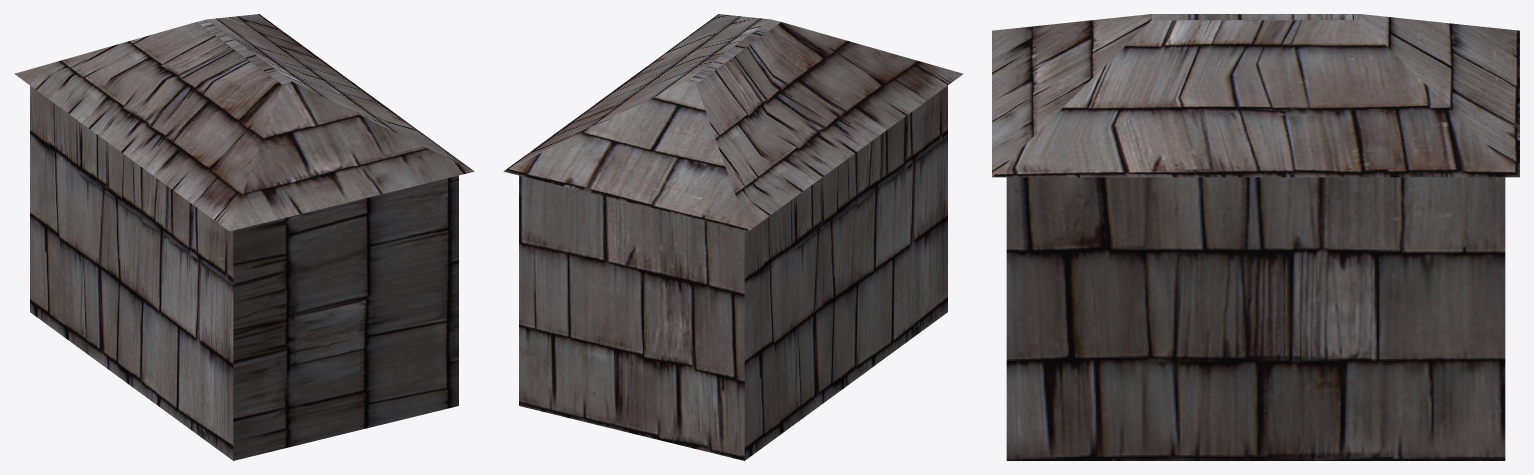
The model's file is MediumHouse2.obj.
3 views of the same model, side by side, from view 1: azimuth 30°, elevation 25°; view 2: azimuth 150°, elevation 25°; view 3: azimuth 270°, elevation 25° (orthographic). The views are drawn at different scales.
Parts seen in each view (by area): view 1: MediumHouse2; view 2: MediumHouse2; view 3: MediumHouse2.
Boxes of the visible parts, bbox=[...] form: MediumHouse2: bbox=[14, 14, 474, 460]; MediumHouse2: bbox=[503, 14, 963, 460]; MediumHouse2: bbox=[992, 14, 1519, 460].
Size of the model in its own units: 54.33 by 65 by 82.61.
